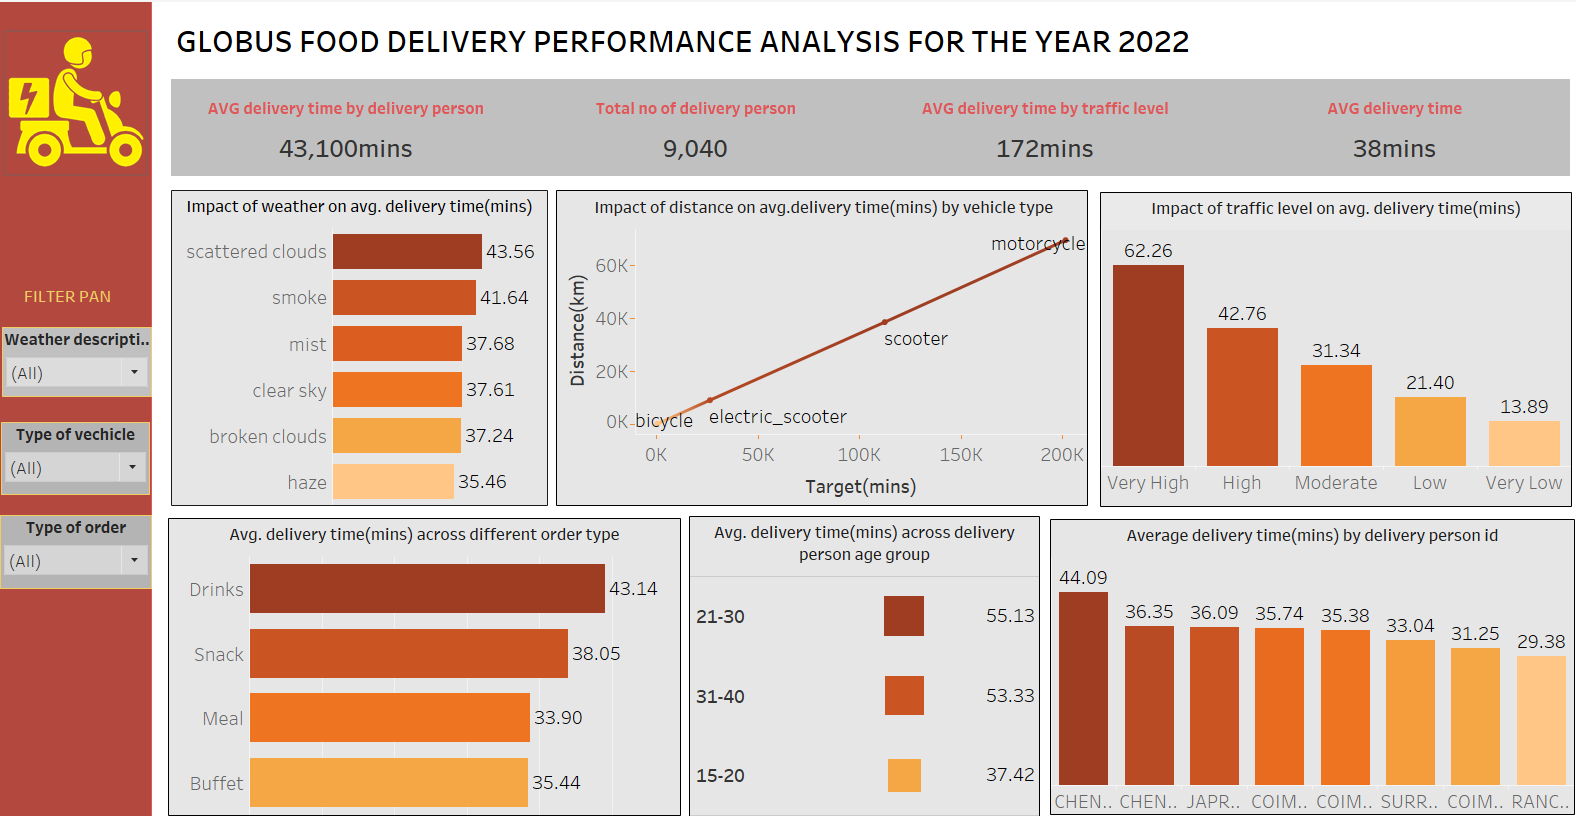

The page's visual inventory and layout, read from the dashboard file:
{"tool":"tableau","page":{"name":"Dashboard 1","canvas":[1000,1000],"units":"permille","ordinal":0},"visuals":[{"type":"text","box":[107.2,6.1,646.5,80.7]},{"type":"image","param":"C:/Users/admin/Downloads/fast-scooter-delivery-shipping-yellow-icon-free-png-701","box":[3.1,36.7,87.9,173.6]},{"type":"worksheet","title":"KPI","mark":"Automatic","box":[106.6,94.1,872.2,118.6]},{"type":"worksheet","title":"Impact of weather on avg. delivery time(mins)","mark":"Automatic","rows":["Weather description"],"cols":["Target(mins)"],"box":[106.6,229.8,235,386.3]},{"type":"worksheet","title":"Impact of distance on avg.delivery time(mins) by vehicle type","mark":"Line","rows":["Distance(km)"],"cols":["Target(mins)"],"box":[346.6,229.8,331.7,386.3]},{"type":"worksheet","title":"Impact of traffic level on avg. delivery time(mins)","mark":"Automatic","rows":["Target(mins)"],"cols":["Traffic level"],"box":[685.8,232.3,294.3,385.1]},{"type":"text","box":[8.7,341.1,66.7,36.7]},{"type":"filter","title":"Impact of weather on avg. delivery time(mins)","param":"[federated.0au36pk0q3av051b0yan81nxsx9f].[none:Weather description:nk]","box":[1.2,397.3,93.5,85.6]},{"type":"filter","title":"Impact of distance on avg.delivery time(mins) by vehicle type","param":"[federated.0au36pk0q3av051b0yan81nxsx9f].[none:Type of vechicle:nk]","box":[0.6,513.5,92.9,89.2]},{"type":"filter","title":"Avg. delivery time(mins) across different order type","param":"[federated.0au36pk0q3av051b0yan81nxsx9f].[none:Type of order:nk]","box":[0,627.1,94.8,90.5]},{"type":"worksheet","title":"Avg. delivery time(mins) across delivery person age group","mark":"Square","rows":["Age group(Delivery person)"],"box":[429.6,628.4,218.8,368]},{"type":"worksheet","title":"Avg. delivery time(mins) across different order type","mark":"Automatic","rows":["Type of order"],"cols":["Target(mins)"],"box":[104.7,630.8,319.8,364.3]},{"type":"worksheet","title":"average delivery time by delivery person id","mark":"Automatic","rows":["Target(mins)"],"cols":["Delivery person ID"],"box":[654.6,632,327.3,361.9]}]}

Visuals, with their boxes on the dashboard's canvas, which has no fixed pixel size, in thousandths of its width and height (x1, y1, x2, y2). These are canvas units, not pixel positions in the 1576x816 screenshot, which may show the page scaled, cropped or inside an application window:
text: 107 6 754 87
image: 3 37 91 210
"KPI" worksheet: 107 94 979 213
"Impact of weather on avg. delivery time(mins)" worksheet: 107 230 342 616
"Impact of distance on avg.delivery time(mins) by vehicle type" worksheet (Line marks): 347 230 678 616
"Impact of traffic level on avg. delivery time(mins)" worksheet: 686 232 980 617
text: 9 341 75 378
"Impact of weather on avg. delivery time(mins)" filter: 1 397 95 483
"Impact of distance on avg.delivery time(mins) by vehicle type" filter: 1 514 94 603
"Avg. delivery time(mins) across different order type" filter: 0 627 95 718
"Avg. delivery time(mins) across delivery person age group" worksheet (Square marks): 430 628 648 996
"Avg. delivery time(mins) across different order type" worksheet: 105 631 424 995
"average delivery time by delivery person id" worksheet: 655 632 982 994
